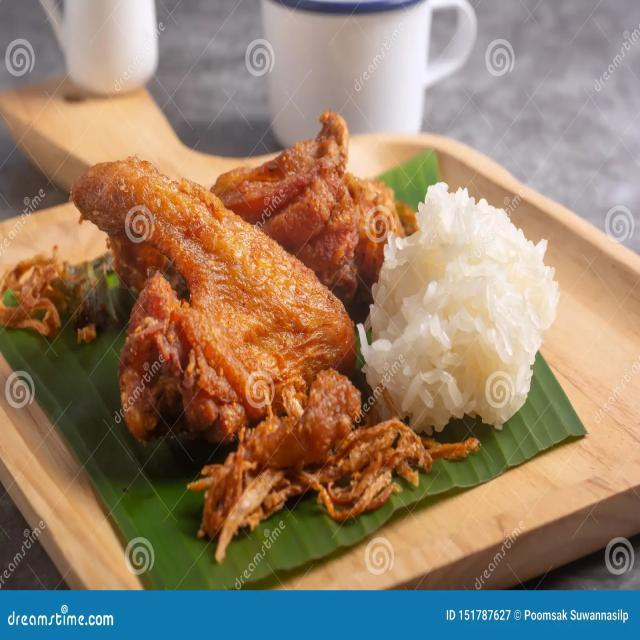thit ga: (65, 162, 373, 472), (208, 103, 402, 337)
xoi: (361, 173, 557, 464)
xoi ga chien: (65, 98, 568, 541)
